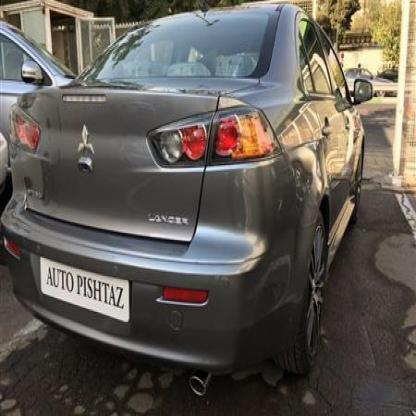Car: (8, 7, 376, 381), (0, 8, 68, 133)
